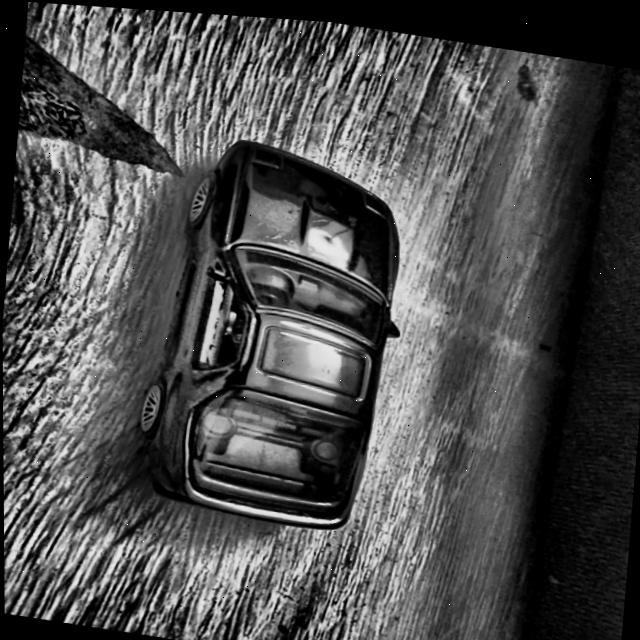car: (131, 123, 415, 536)
